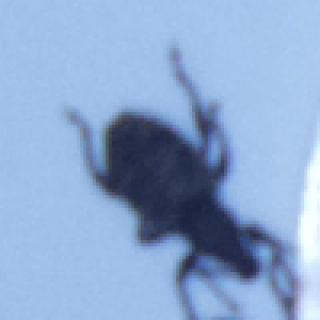bvw: (59, 40, 304, 319)
